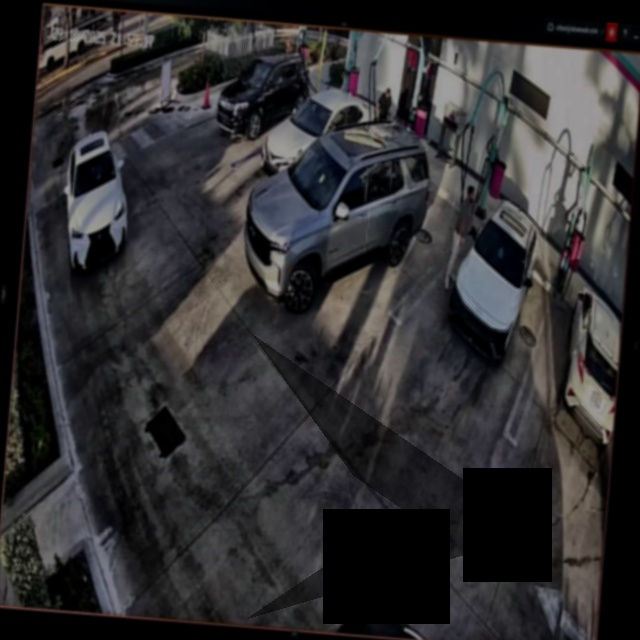Car: (238, 113, 434, 322), (447, 195, 543, 361), (259, 77, 380, 186)
